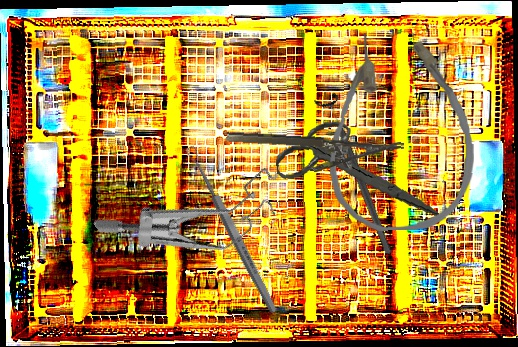Cannula: (325, 29, 477, 233)
Fixation Ring: (312, 90, 402, 260)
Iris Scissors: (271, 108, 440, 238)
Needle Holder: (224, 130, 405, 178)
Speculum: (91, 114, 298, 308)
Surgical Spoon: (184, 144, 280, 315)
